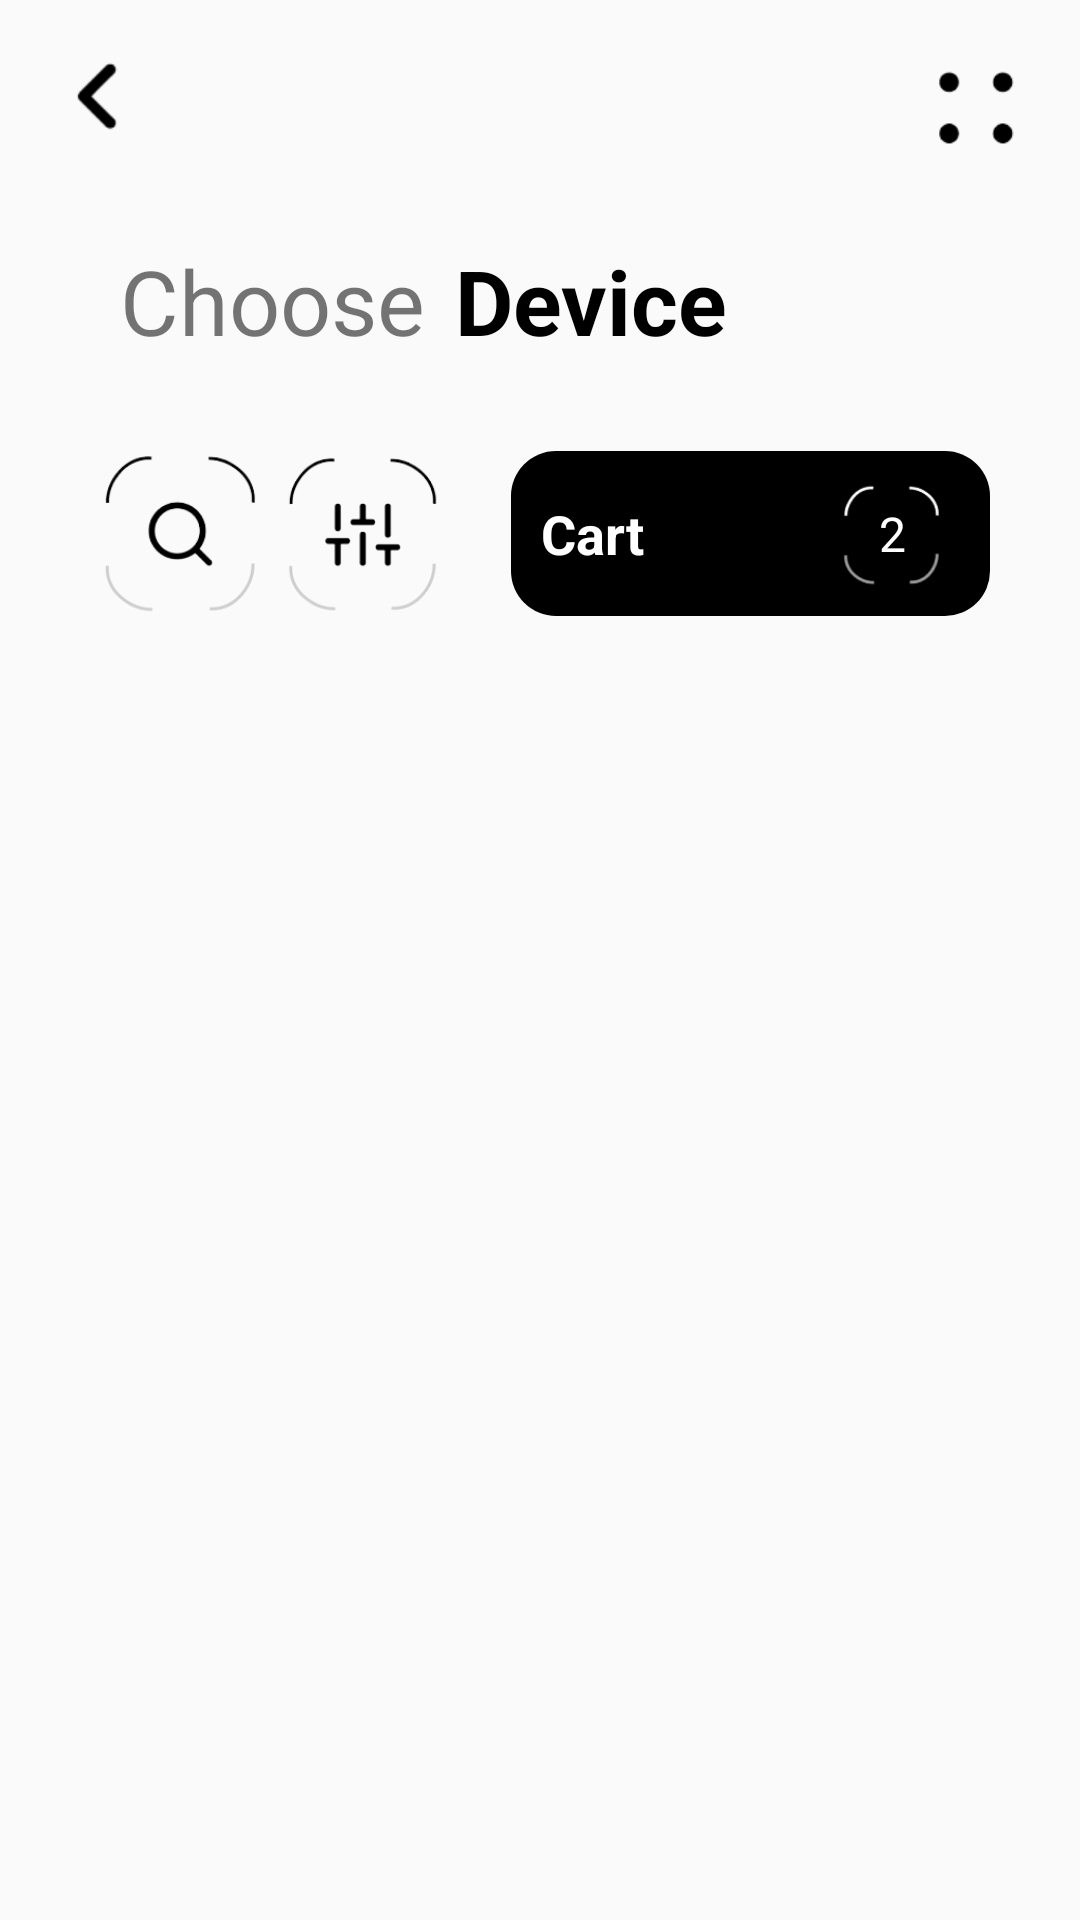

Where icons sit on this 1080×1920 app screen, as (x1, y1, x2, y2):
back arrow: (77, 63, 117, 129)
four dots: (939, 72, 1014, 144)
search: (105, 456, 255, 611)
settings: (289, 458, 437, 610)
